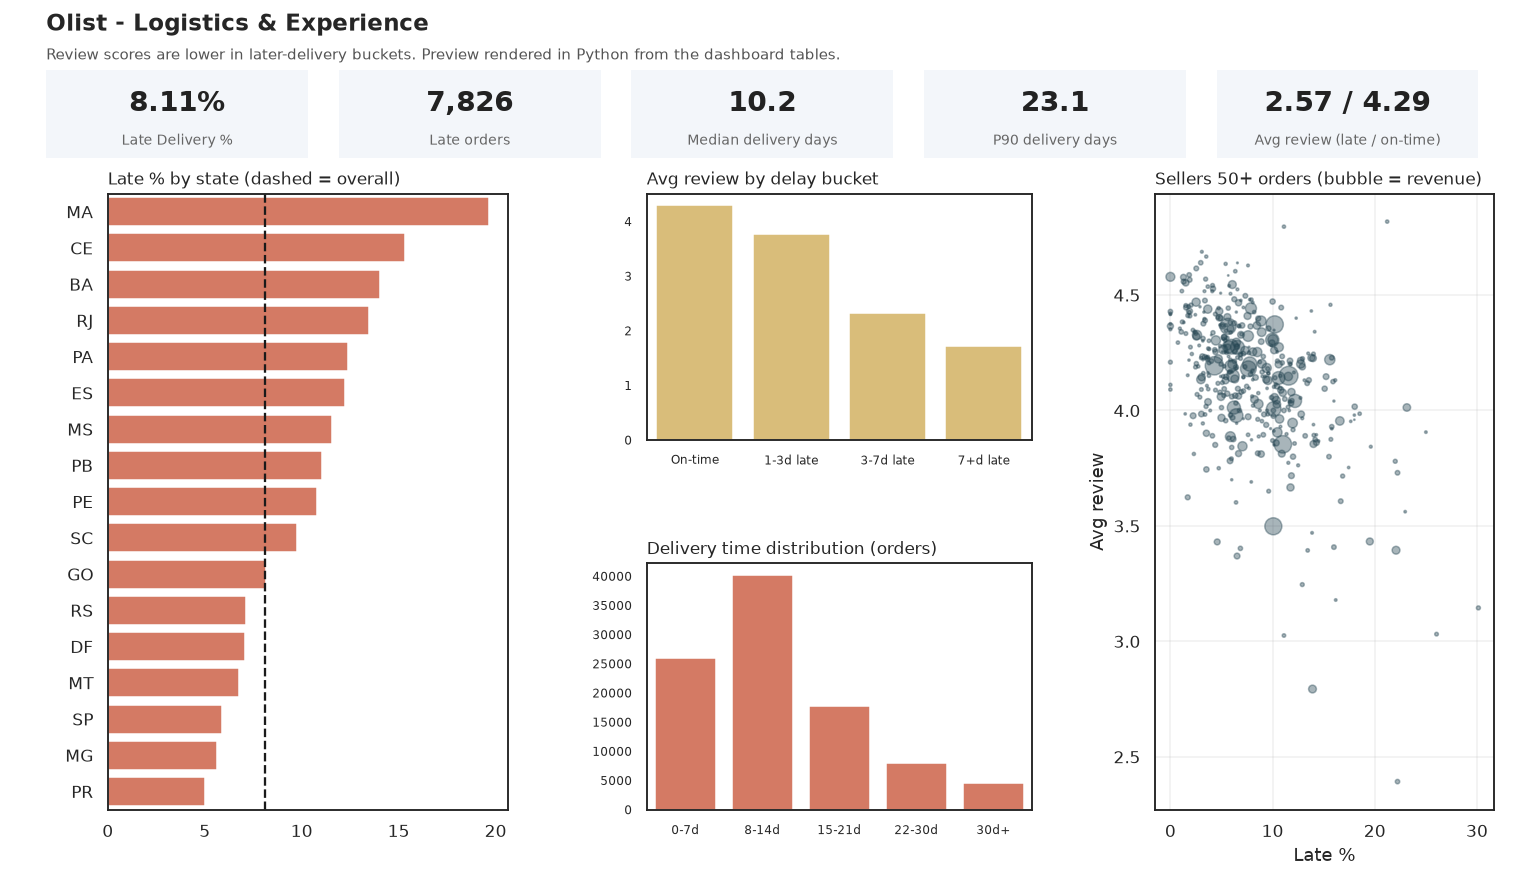

Layout of this report page (visuals, bound fields, positions):
{"tool":"powerbi","page":{"name":"Page 3","canvas":[1920,1080],"ordinal":2},"visuals":[{"type":"clusteredBarChart","fields":{"Category":["orders.customer_state"],"Y":["orders.Late %"]},"box":[10,0,950,600],"z":0},{"type":"clusteredColumnChart","fields":{"Category":["orders.bucket"],"Y":["orders.Avg Review"]},"box":[0,600,960,480],"z":1},{"type":"clusteredColumnChart","fields":{"Category":["orders.delivery_days"],"Y":["orders.Orders"]},"box":[960,0,960,600],"z":2},{"type":"scatterChart","fields":{"Category":["sellers_50plus.seller_id"],"X":["Sum(sellers_50plus.late_pct)"],"Y":["Sum(sellers_50plus.avg_review)"]},"box":[960,600,960,480],"z":3}]}

Visuals, with their boxes in screenshot pixels (x1, y1, x2, y2), scaled from the page's 1920x1080 canvas onto the 1540x880 screenshot:
clusteredBarChart - orders.customer_state x orders.Late %: bbox(8, 0, 770, 489)
clusteredColumnChart - orders.bucket x orders.Avg Review: bbox(0, 489, 770, 879)
clusteredColumnChart - orders.delivery_days x orders.Orders: bbox(770, 0, 1539, 489)
scatterChart - sellers_50plus.seller_id x Sum(sellers_50plus.late_pct): bbox(770, 489, 1539, 879)
